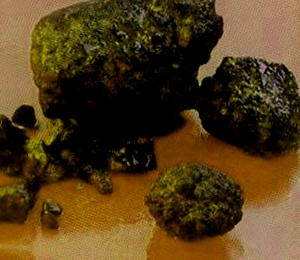halobolite: (22, 1, 226, 138), (205, 68, 300, 161), (151, 167, 239, 238), (1, 121, 73, 187), (1, 164, 57, 226), (82, 137, 154, 180), (38, 203, 68, 240)
